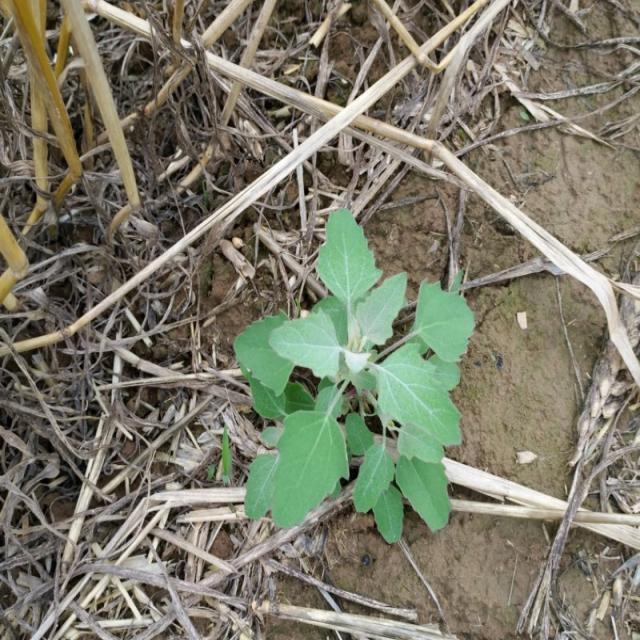goosefoots: (239, 212, 486, 542)
